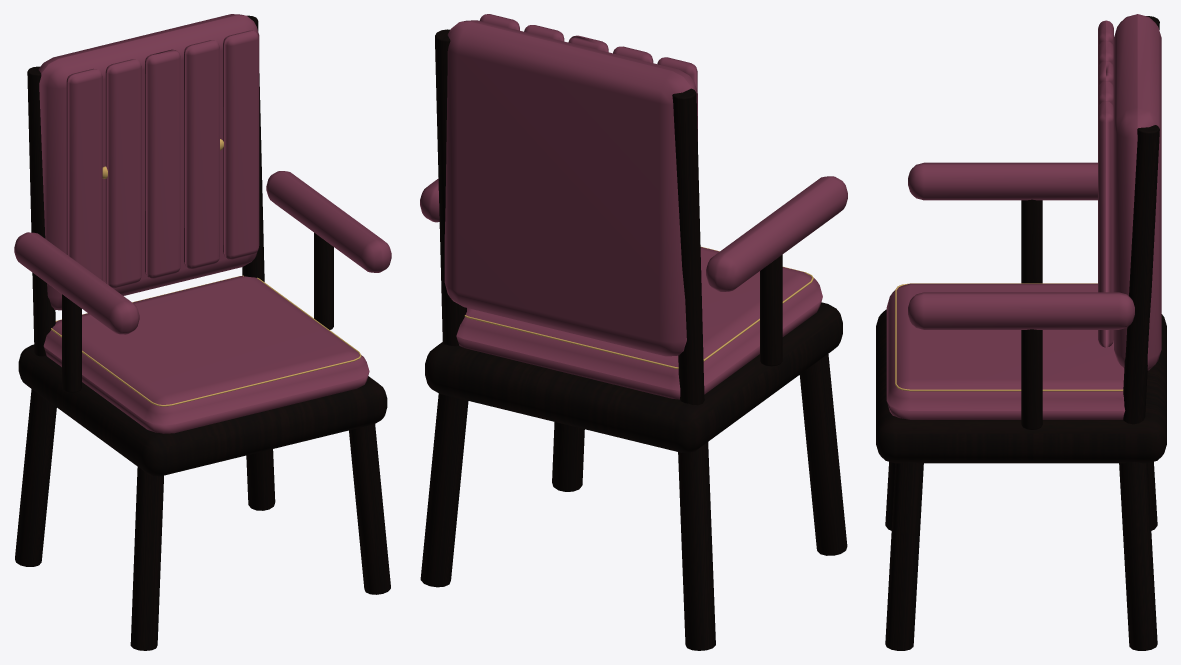
The model's file is speakeasy-chair.glb.
3 renders of one model, left to right at view 1: azimuth 30°, elevation 25°; view 2: azimuth 150°, elevation 25°; view 3: azimuth 270°, elevation 25°, orthographic. The views are drawn at different scales.
Parts seen in each view (by area): view 1: speakeasy-chair - Room Review upholstery runtime PBR, speakeasy-chair - Room Review joinery runtime PBR, speakeasy-chair - Room Review trim runtime PBR; view 2: speakeasy-chair - Room Review upholstery runtime PBR, speakeasy-chair - Room Review joinery runtime PBR, speakeasy-chair - Room Review trim runtime PBR; view 3: speakeasy-chair - Room Review upholstery runtime PBR, speakeasy-chair - Room Review joinery runtime PBR, speakeasy-chair - Room Review trim runtime PBR.
Part boxes in pixels (x1,y1,x2,y2): speakeasy-chair - Room Review upholstery runtime PBR: [14, 14, 391, 433]; speakeasy-chair - Room Review joinery runtime PBR: [15, 15, 390, 650]; speakeasy-chair - Room Review trim runtime PBR: [51, 139, 361, 406]; speakeasy-chair - Room Review upholstery runtime PBR: [420, 14, 847, 399]; speakeasy-chair - Room Review joinery runtime PBR: [420, 29, 847, 650]; speakeasy-chair - Room Review trim runtime PBR: [464, 246, 813, 368]; speakeasy-chair - Room Review upholstery runtime PBR: [886, 14, 1161, 419]; speakeasy-chair - Room Review joinery runtime PBR: [876, 16, 1166, 650]; speakeasy-chair - Room Review trim runtime PBR: [895, 283, 1123, 391].
Size of the model in its own units: 0.645 by 1.1 by 0.55.
3 materials, 1 textured.
